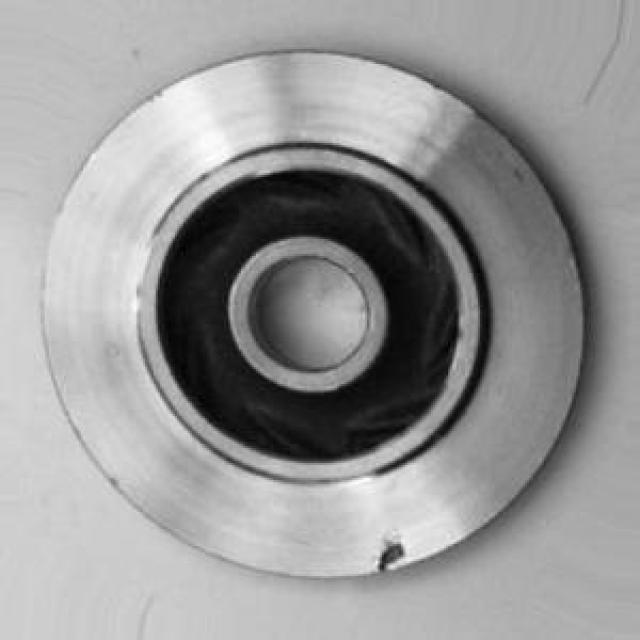Defect: (364, 525, 411, 576)
